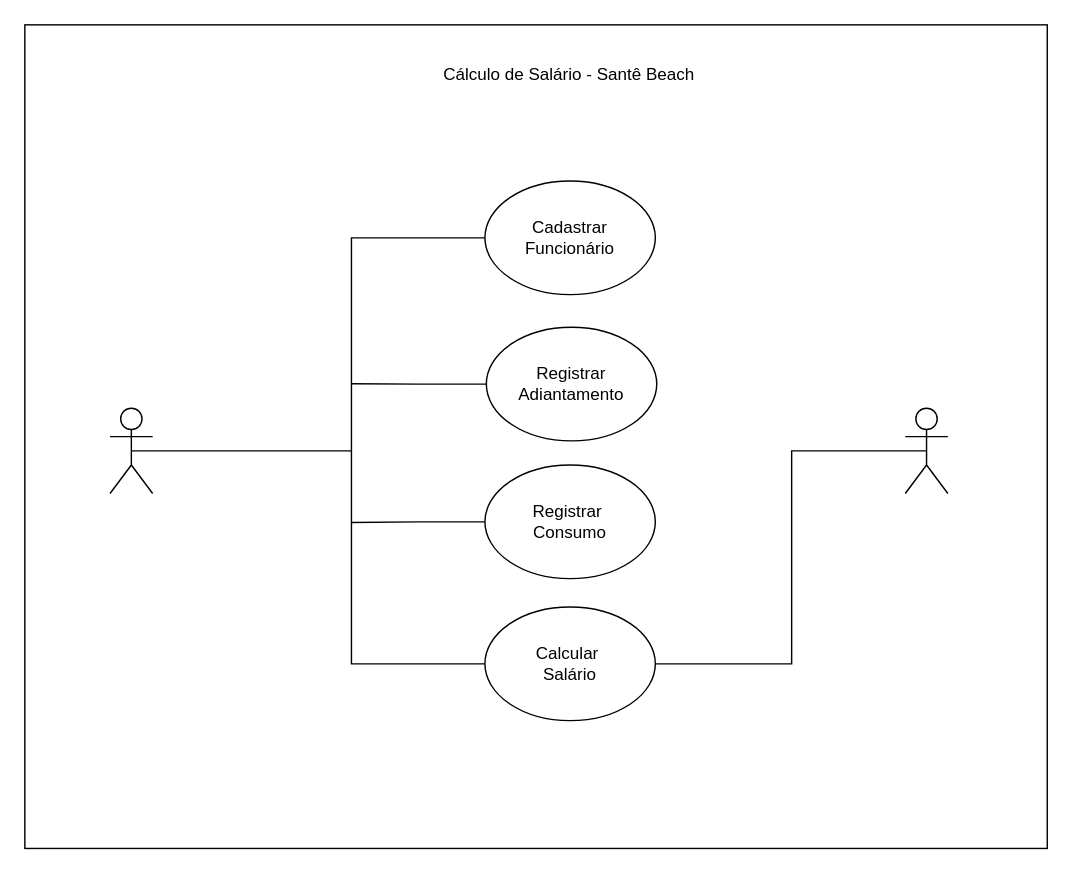
Some shapes in this 1072 by 873 pixel diagram are drawn without their labels. Each missing label, with the box of its shape:
Funcionário: (904, 407, 948, 493)
Gestora: (109, 407, 153, 493)
